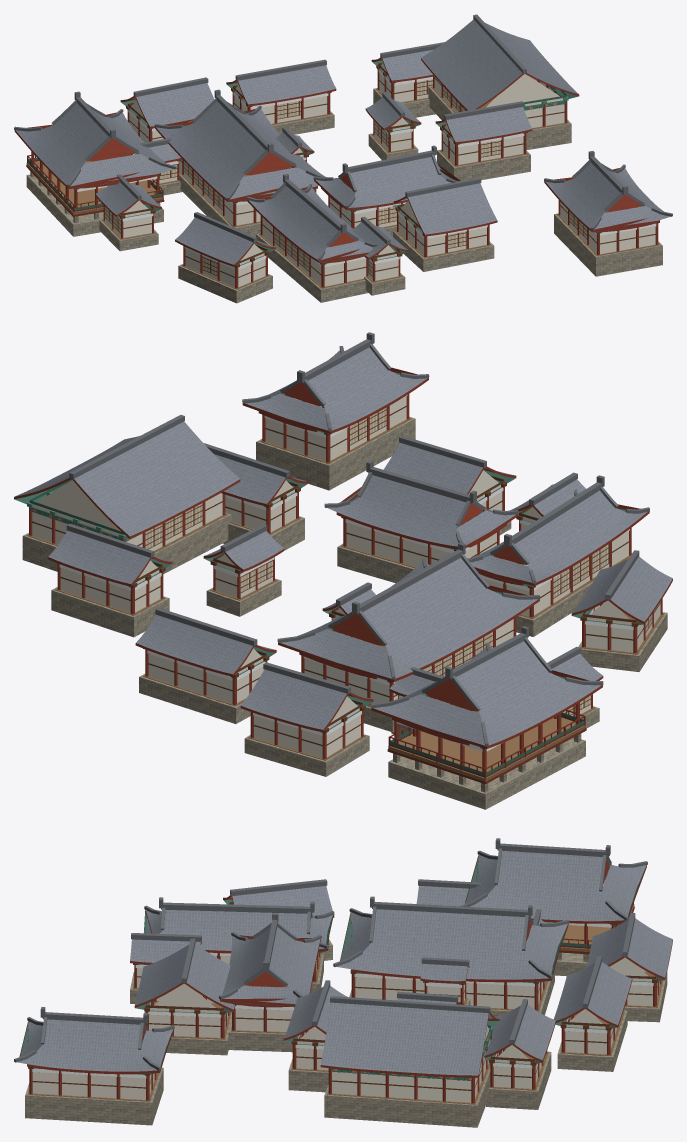
File: namwon_hyanggyo.glb
3 renders of one model, top to bottom at view 1: azimuth 30°, elevation 25°; view 2: azimuth 150°, elevation 25°; view 3: azimuth 270°, elevation 25°, orthographic. The views are drawn at different scales.
Visible parts, largest first — view 1: namwon_hyanggyo; view 2: namwon_hyanggyo; view 3: namwon_hyanggyo.
Part boxes in pixels (<box>): namwon_hyanggyo: <box>14,14,672,303</box>; namwon_hyanggyo: <box>14,332,672,809</box>; namwon_hyanggyo: <box>14,838,672,1127</box>.
Size of the model in its own units: 62.99 by 16.08 by 66.91.
Materials: 5 (4 with a texture image).
